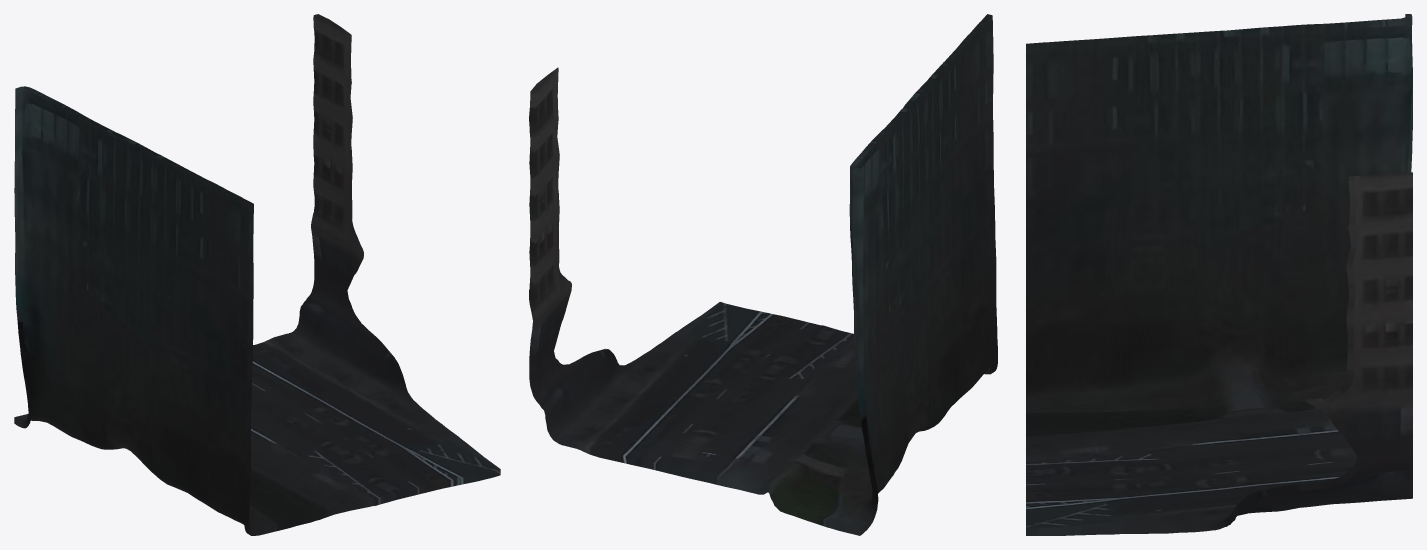
The model's file is z20-167771-405236-h0-yup-uvflip-v3-world.glb.
3 views of the same model, side by side, from view 1: azimuth 30°, elevation 25°; view 2: azimuth 150°, elevation 25°; view 3: azimuth 270°, elevation 25° (orthographic). The views are drawn at different scales.
Bounding box in the file's own units: 30.16 × 31.44 × 30.32.
1 material, 1 textured.
